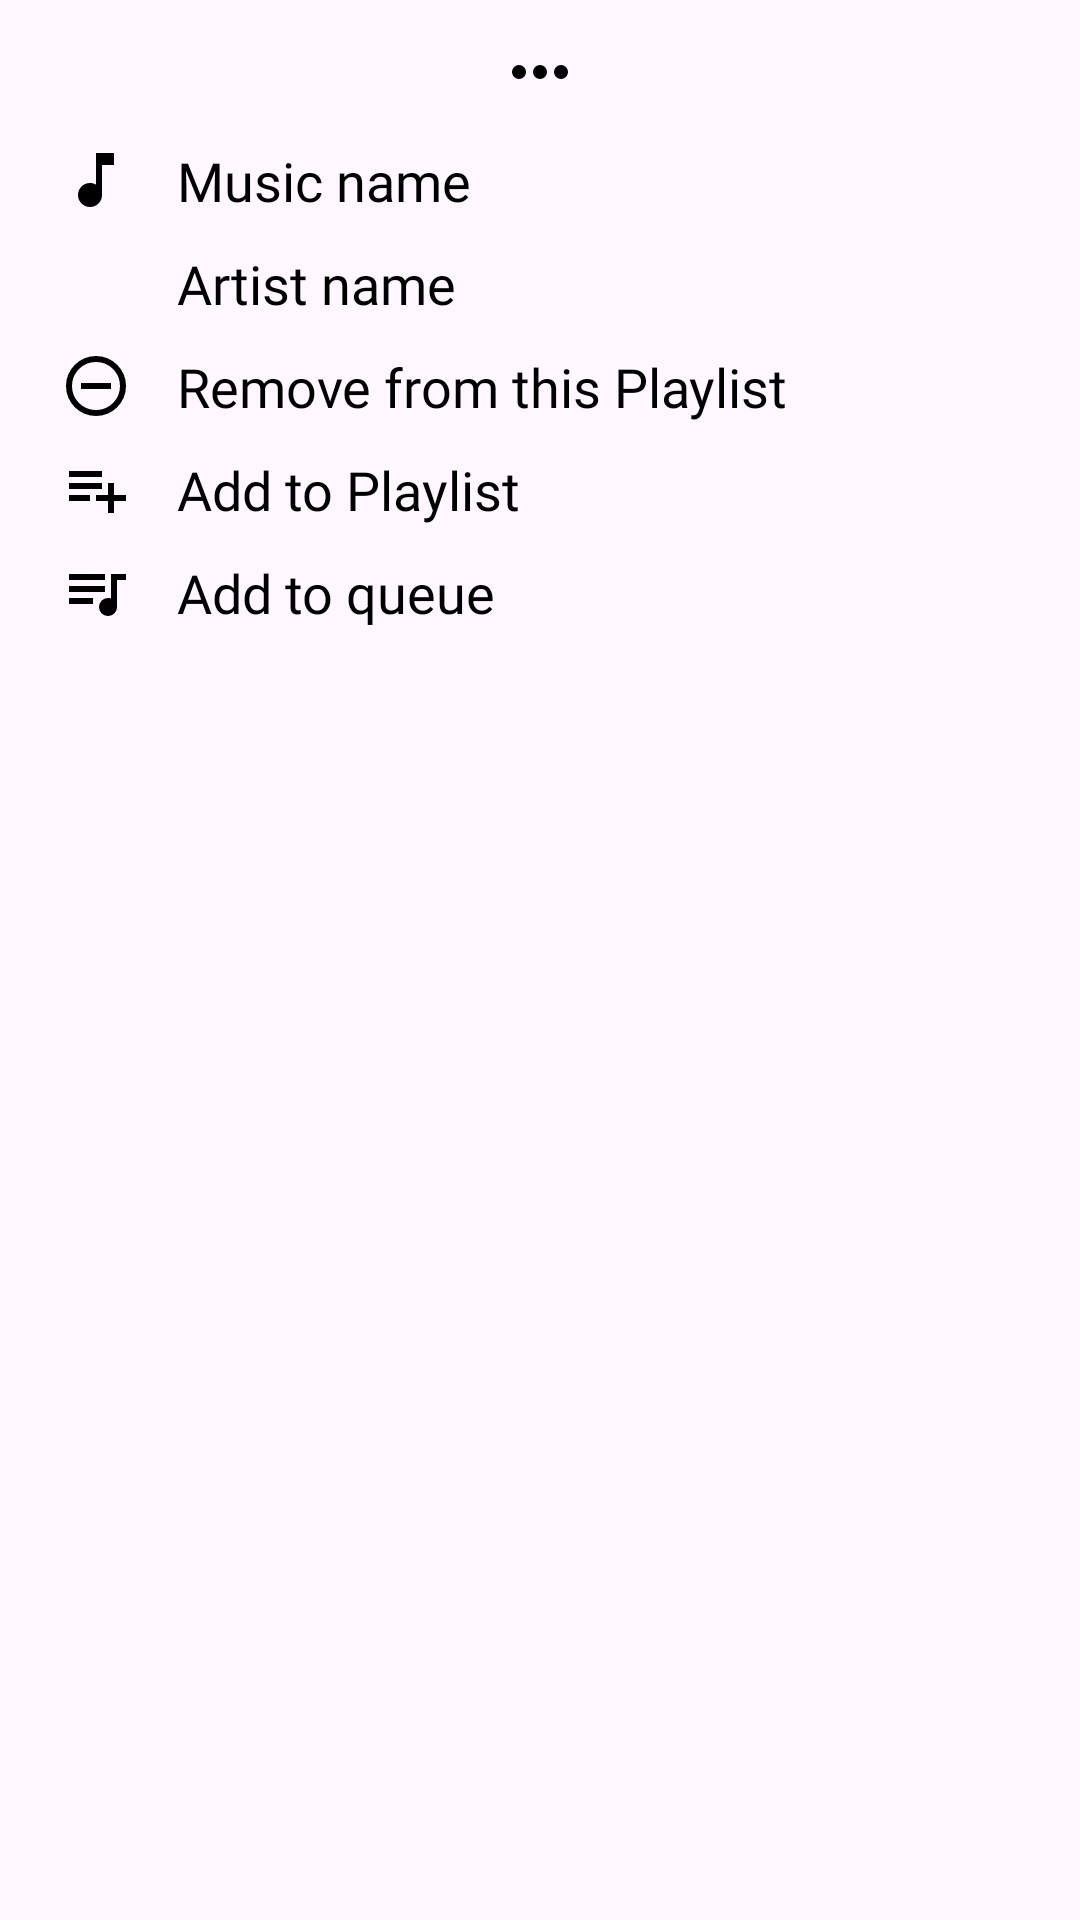

Screen size 1080 × 1920. Icon name, then its center in pixels as (x=x, y=y):
music note: (x=96, y=180)
queue music: (x=97, y=595)
